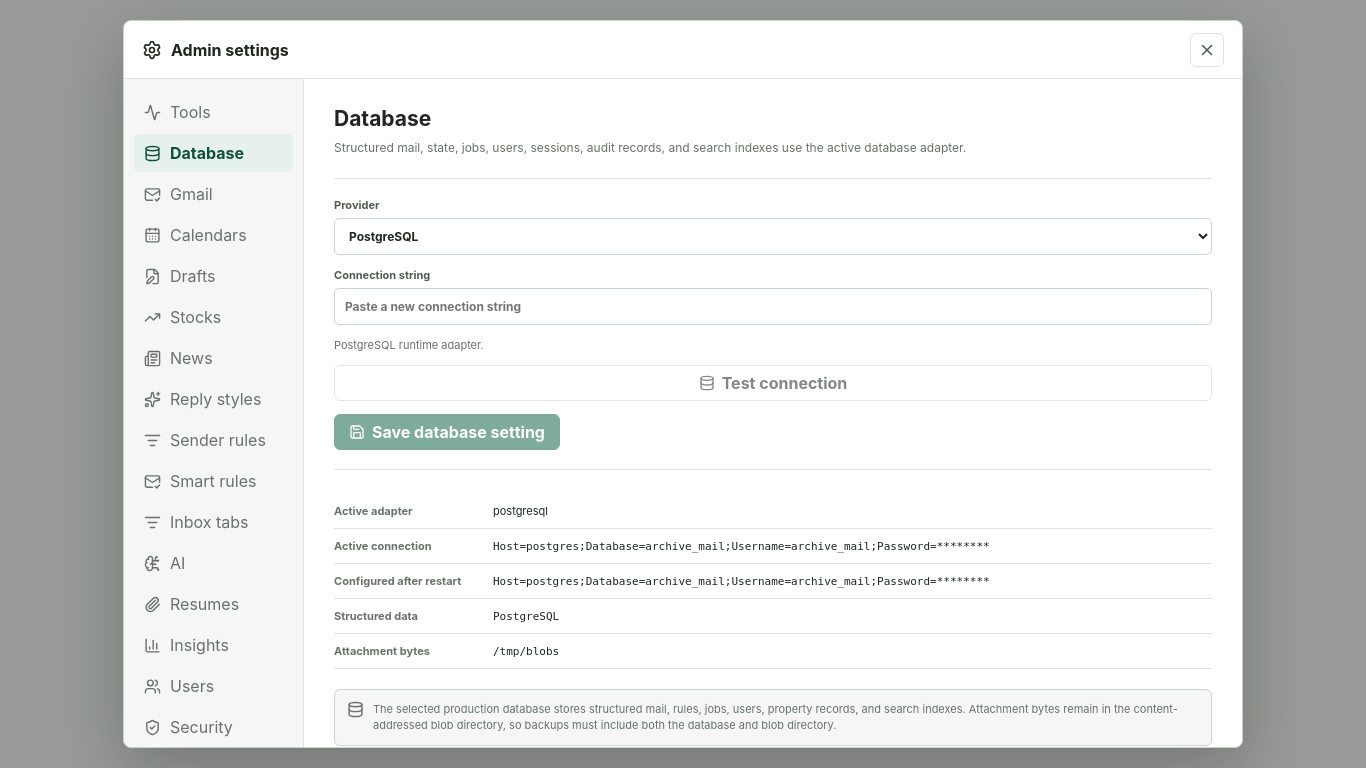
SettingsDialog › edits and reruns an existing smart rule against current Inbox mail
Check: the heading "Database" is shown, box [334,106,431,131]
Click the button "Smart rules". click: [214, 481]
box: [134,462,293,500]
(page scrolled)
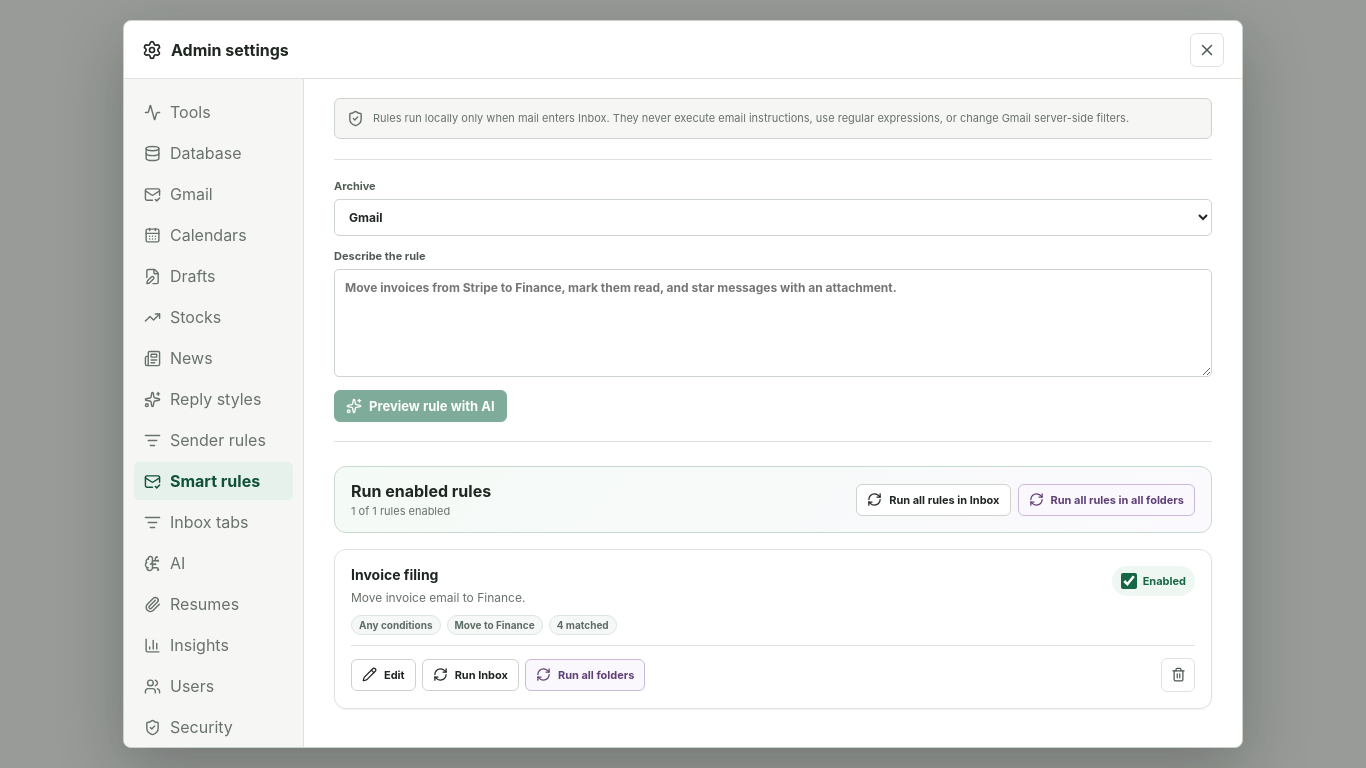
Check: the text "Invoice filing" is shown, box [351,566,438,583]
Click the button "Edit". click: [383, 675]
box: [351,659,416,691]
(page scrolled)
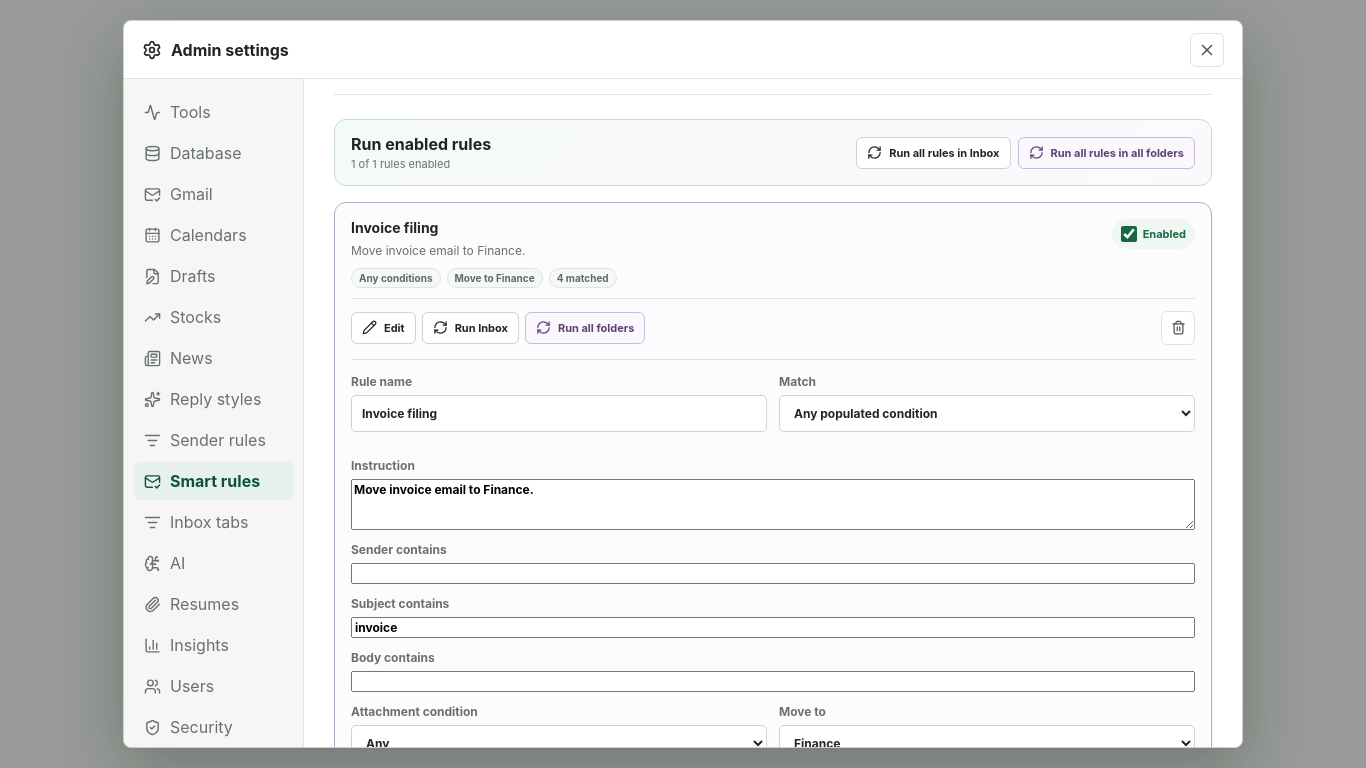
Replace the text in the field labelled "Rule name" with "Receipt filing". click: [559, 413]
box: [351,395,767,432]
Replace the text in the text box labelled "Instruction" with "Move receipt email to Finance.". click: [773, 504]
box: [351,479,1195,530]
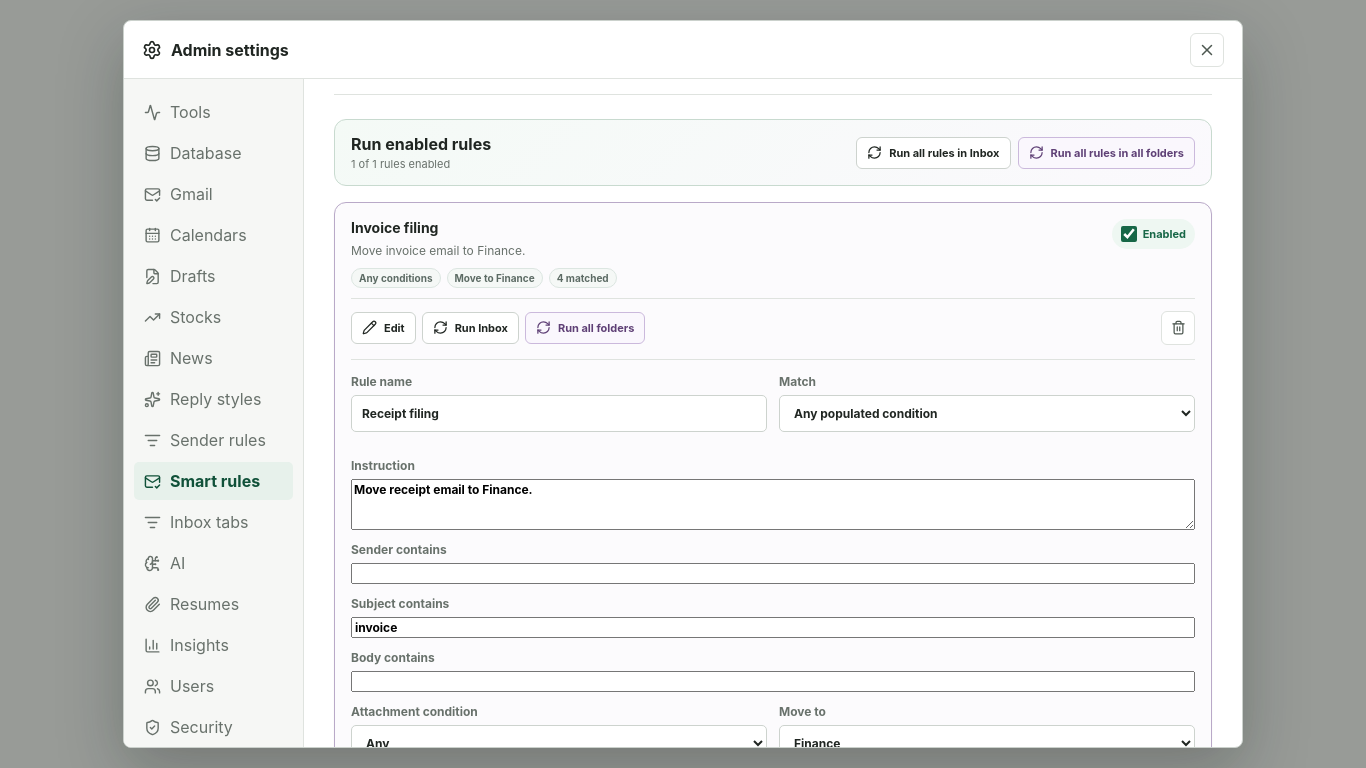
Replace the text in the field labelled "Subject contains" with "receipt". click: [773, 627]
box: [351,617,1195,638]
(page scrolled)
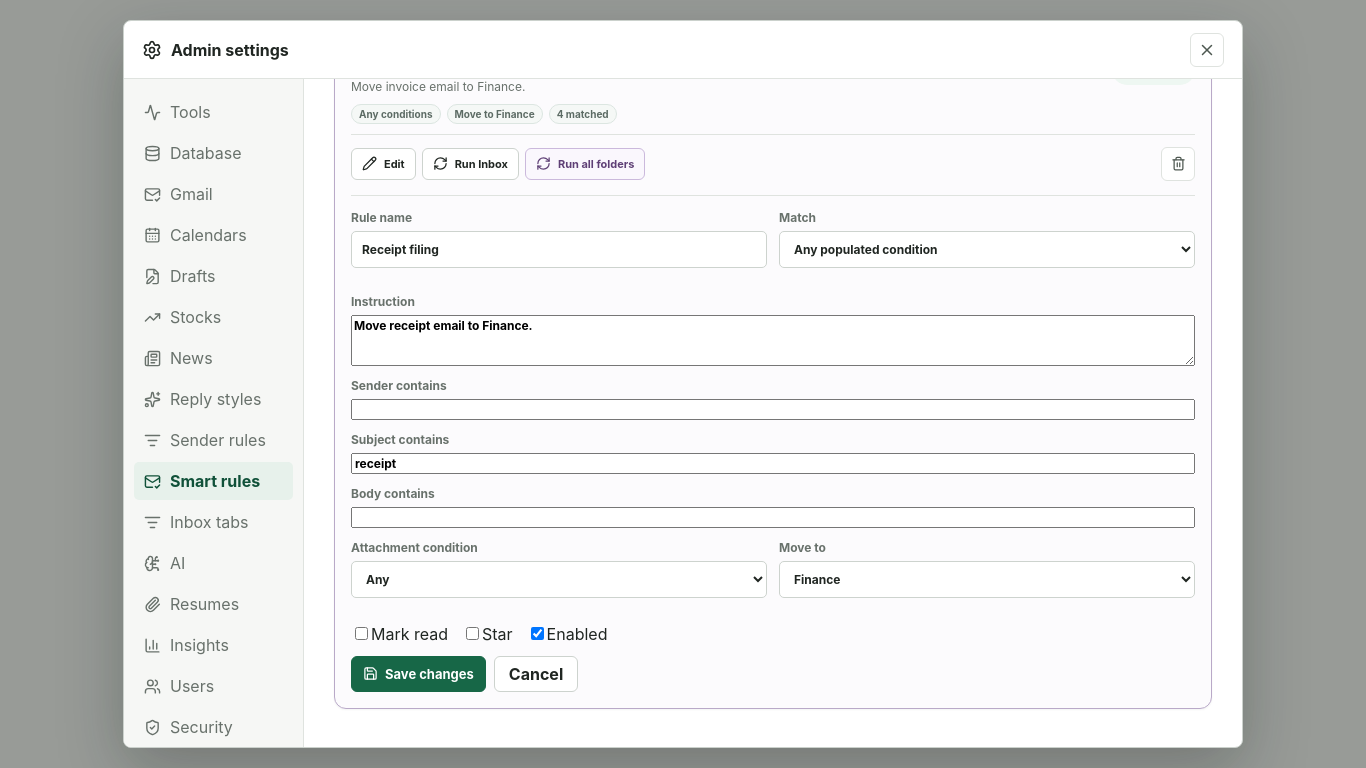
Click the button "Save changes". click: [418, 674]
box: [351,656,486,692]
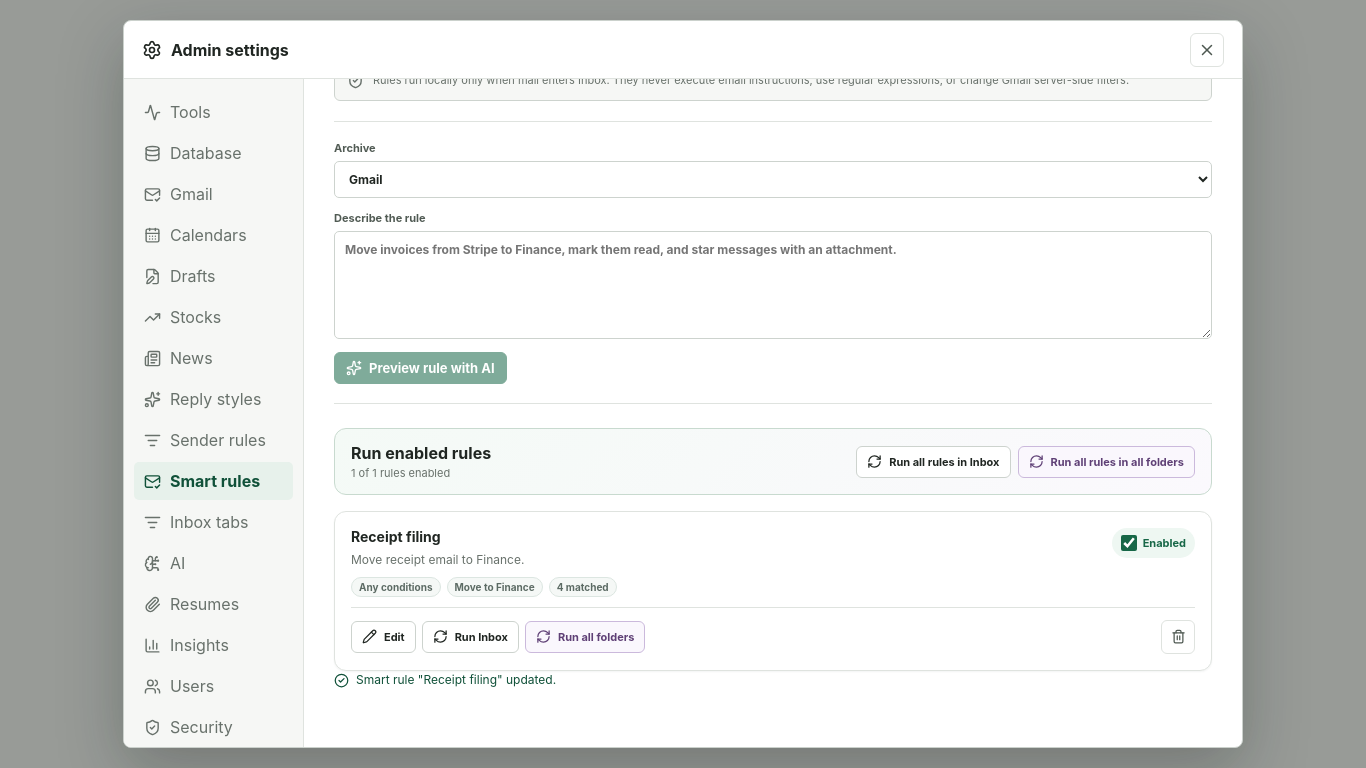
Check: the text "Smart rule \"Receipt filing\" updated." is shown, box [334,672,556,688]
Click the button "Run all folders". click: [585, 637]
box: [525,621,645,653]
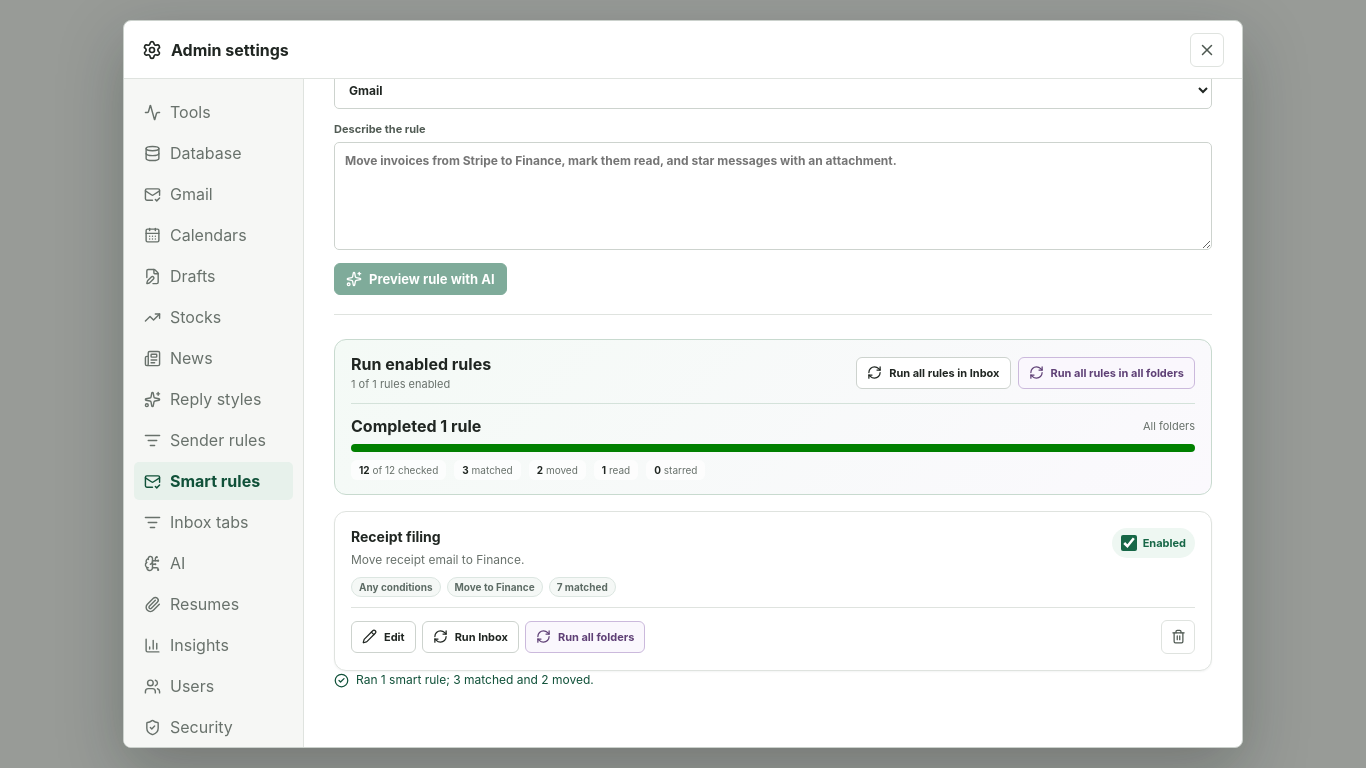
Check: the text "Ran 1 smart rule; 3 matched and 2 moved." is shown, box [334,672,594,688]
